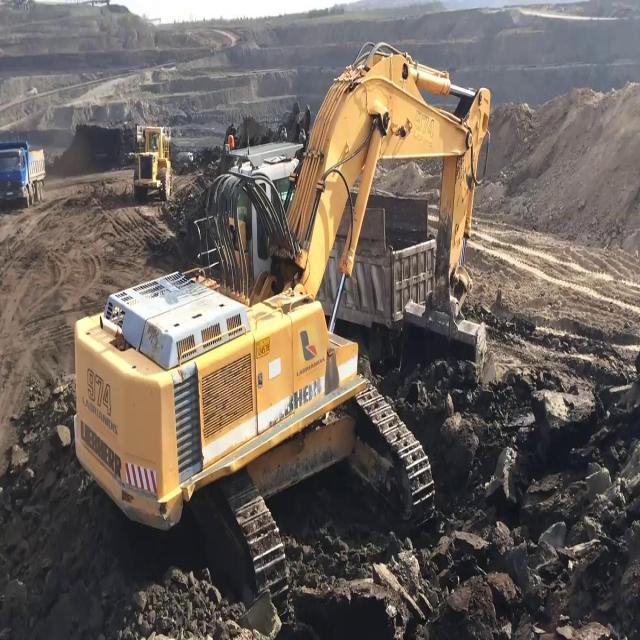buldozerpayloadergrader: (133, 125, 172, 206)
dump_truck: (352, 195, 432, 350), (0, 143, 46, 211)
excavator: (72, 42, 506, 609)
